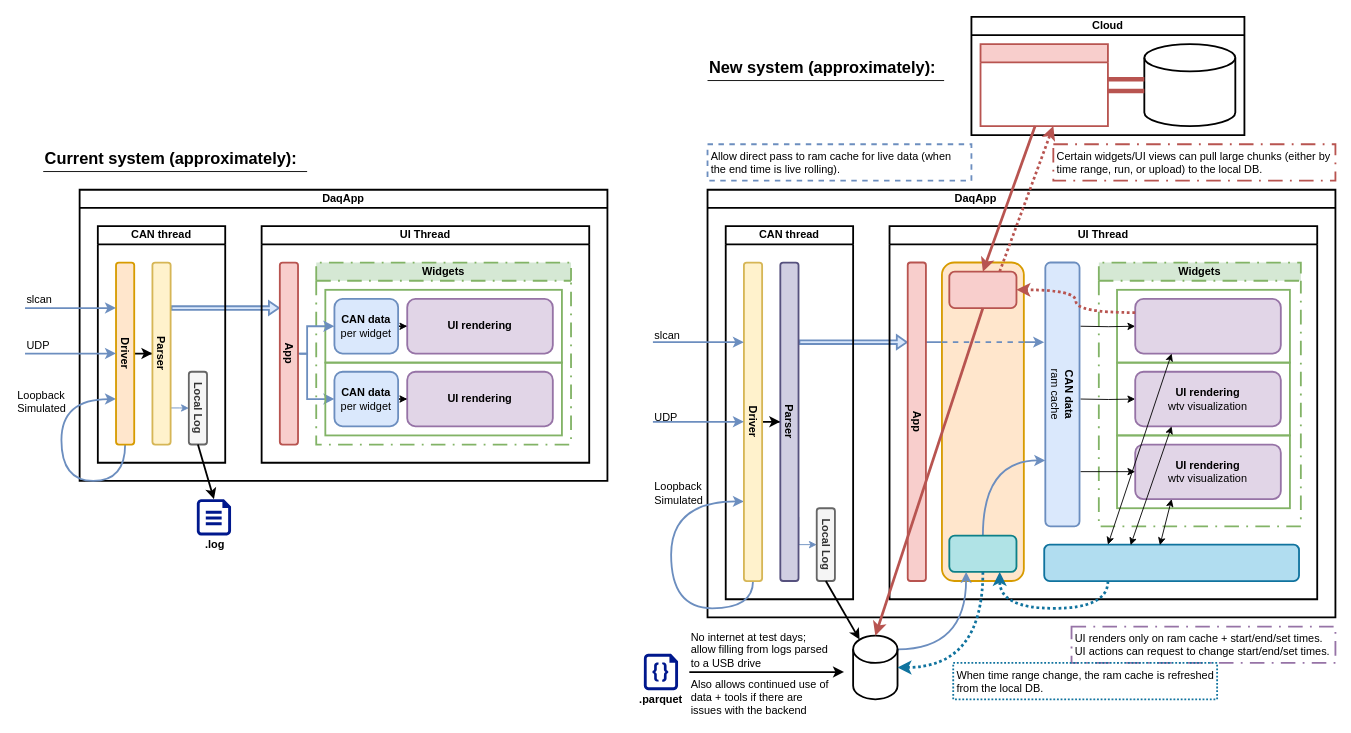
The diagram is 1351 pixels wide and 733 high, and some of its shapes have lost their labels. The centre of each missing label's shape, as x and y in pixels:
Data Source Management: the point at 982,421
DB: the point at 1189,84
Request to backfill: the point at 982,553
Server: the point at 1043,84
SQLite: the point at 875,667
Sync time range: the point at 982,289
Timeline System Start, end, and active/setpoint times: the point at 1171,562
UI rendering Ex: overall time range selector: the point at 1207,326
